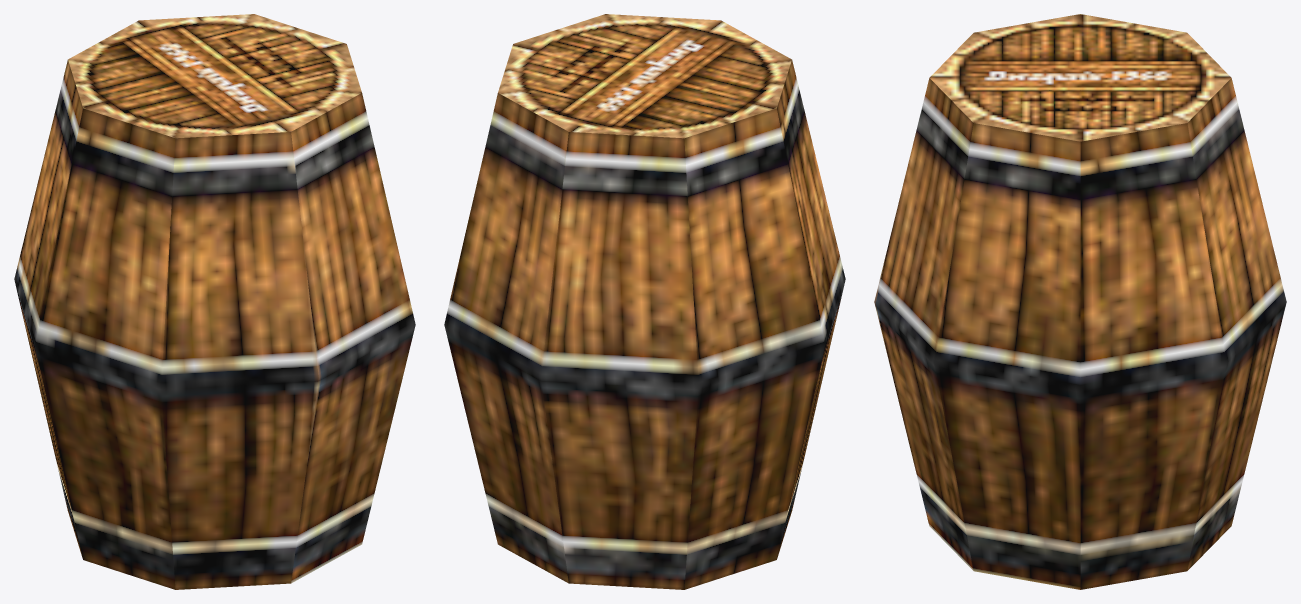
The model's file is anterose.gltf.
The picture shows the model from 3 angles, left to right: view 1: azimuth 30°, elevation 25°; view 2: azimuth 150°, elevation 25°; view 3: azimuth 270°, elevation 25°; orthographic projection.
Parts seen in each view (by area): view 1: mesh_Mesh_T01tar00; view 2: mesh_Mesh_T01tar00; view 3: mesh_Mesh_T01tar00.
Boxes of the visible parts, <box> form: mesh_Mesh_T01tar00: <box>14,14,415,589</box>; mesh_Mesh_T01tar00: <box>444,14,845,589</box>; mesh_Mesh_T01tar00: <box>874,14,1286,589</box>.
Size of the model in its own units: 0.9708 by 1.16 by 0.9708.
1 material, 1 textured.
